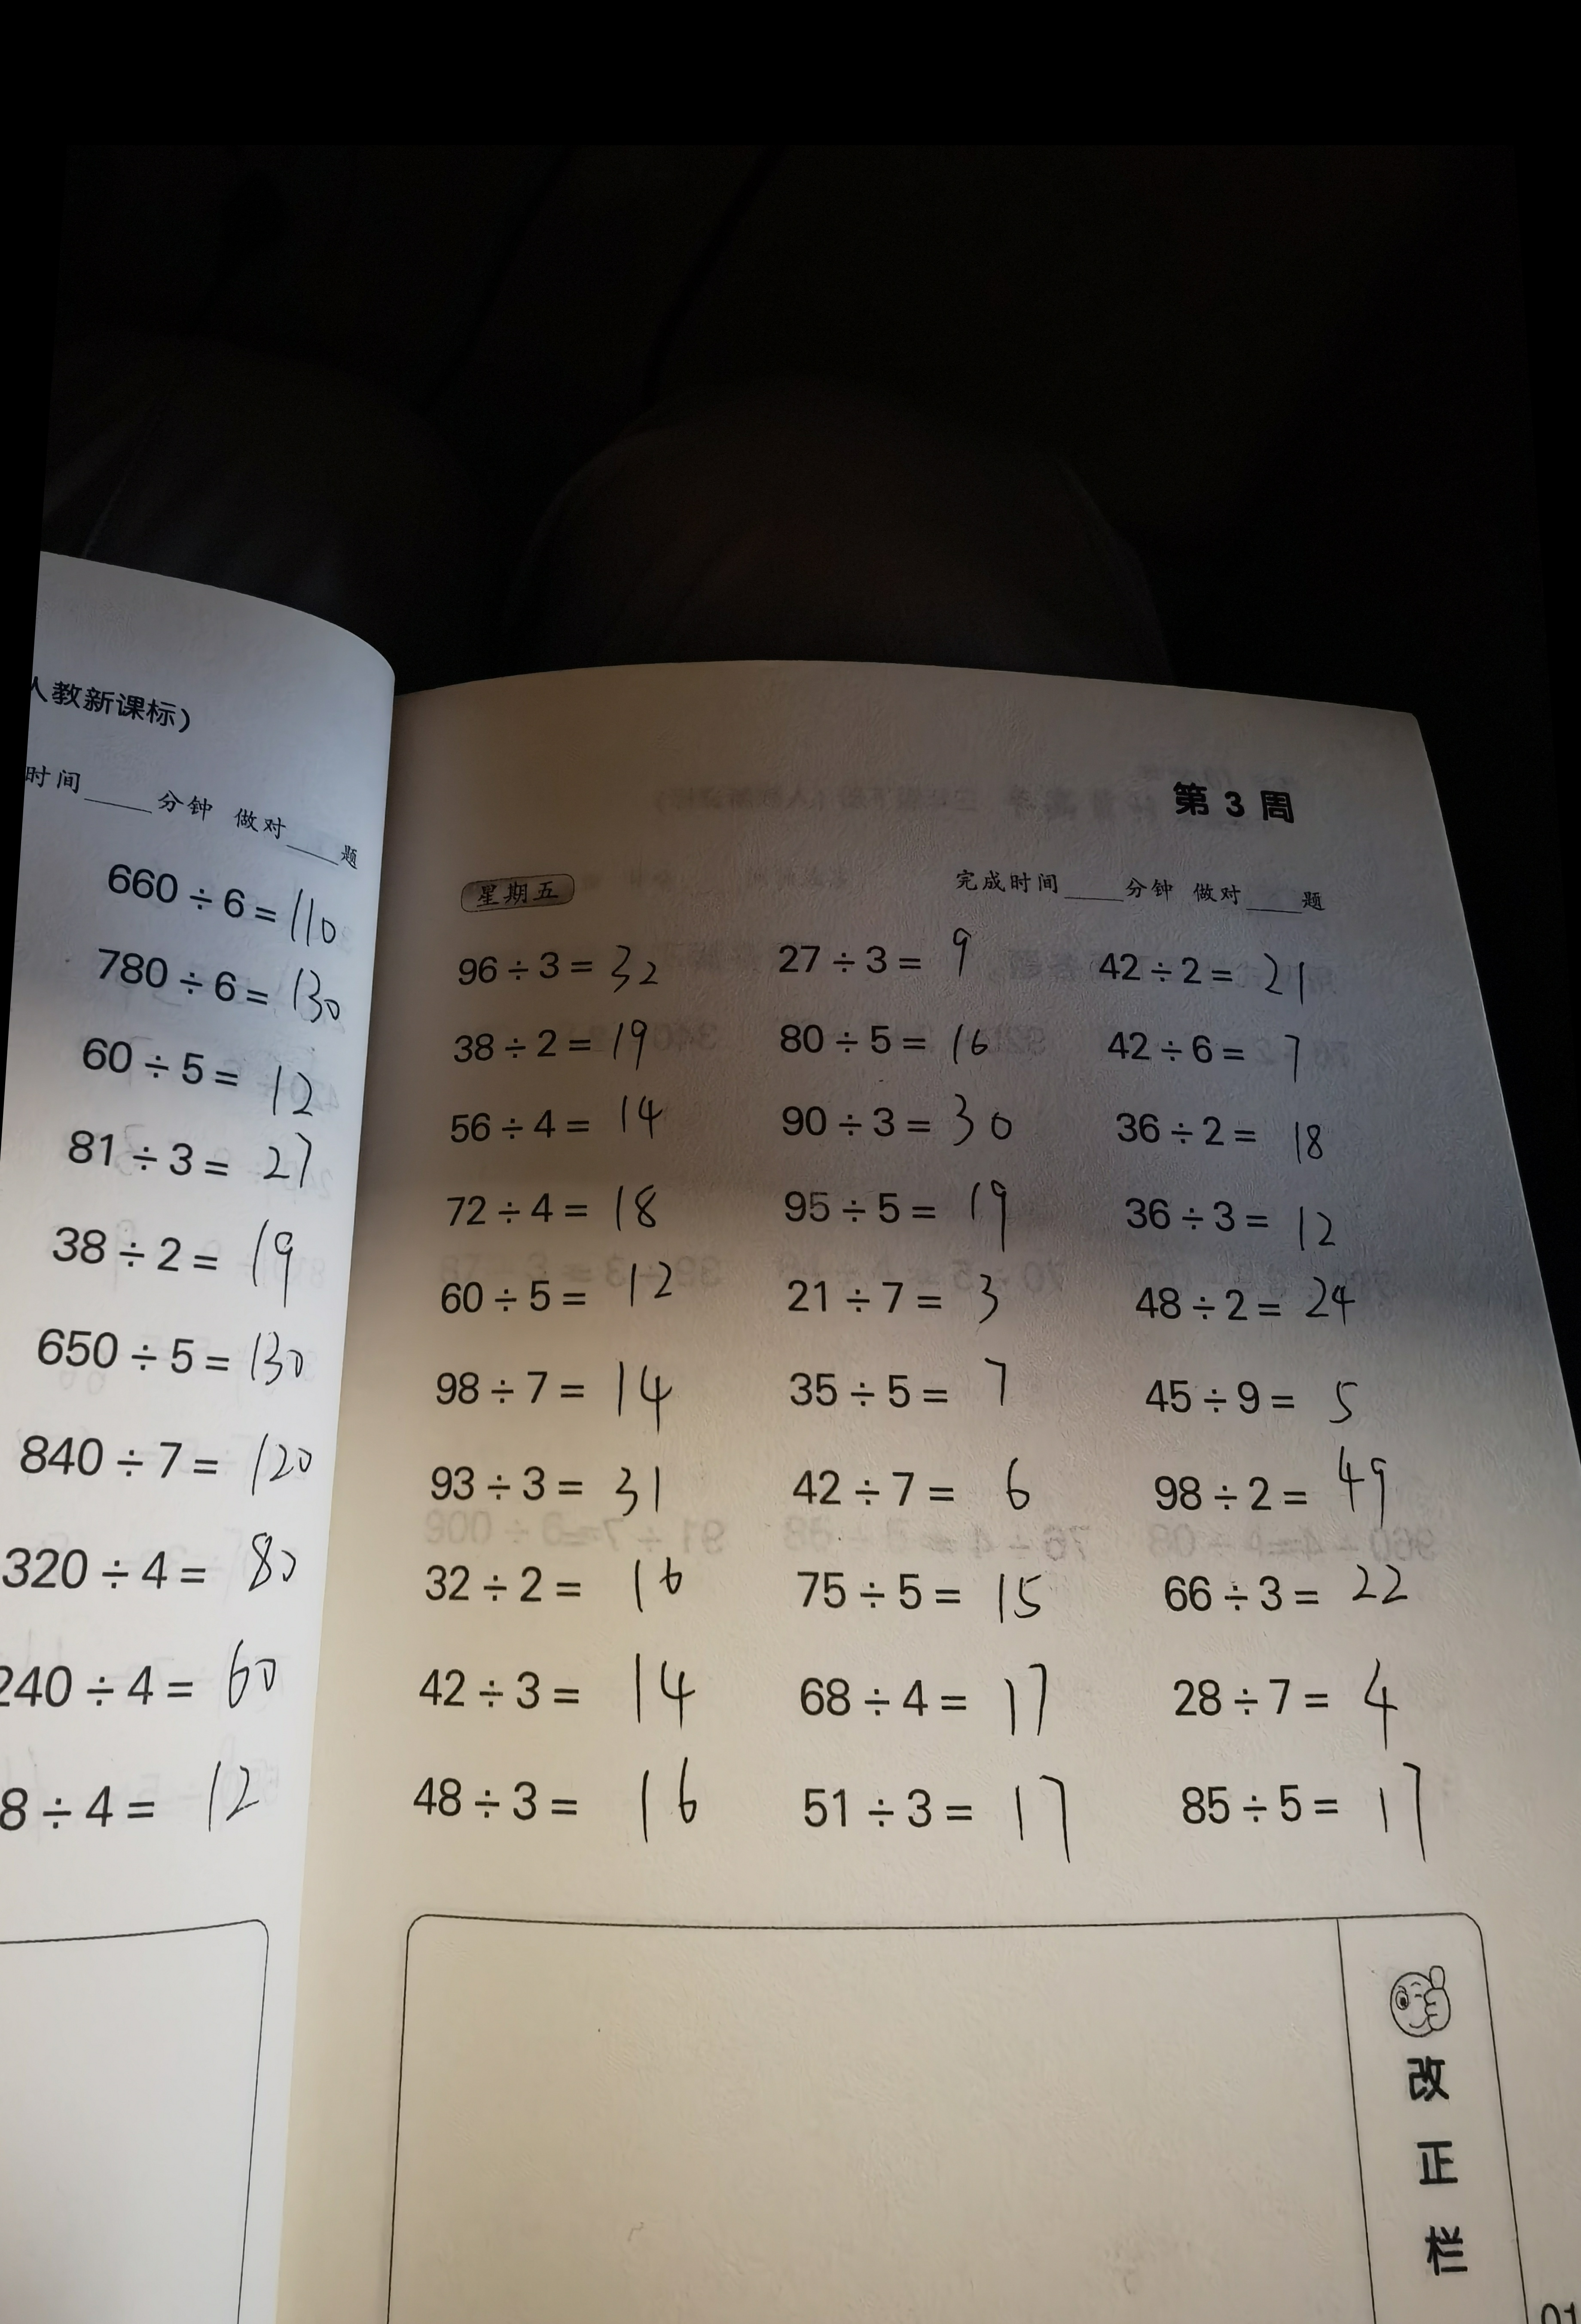equation: (1135, 1759, 1452, 1872), (392, 1652, 741, 1750), (783, 1655, 1101, 1750), (782, 1766, 1092, 1860), (393, 1758, 743, 1840), (1140, 1445, 1424, 1546), (768, 1353, 1064, 1443), (1135, 1548, 1435, 1636), (1096, 1341, 1378, 1433), (785, 1541, 1057, 1634), (1163, 1655, 1408, 1758), (401, 1443, 686, 1525), (750, 1265, 1039, 1345), (420, 1544, 709, 1616), (761, 1076, 1036, 1152), (790, 1449, 1046, 1526), (780, 1182, 1038, 1255), (411, 1353, 679, 1422), (1115, 1182, 1355, 1258), (1094, 937, 1332, 1013), (422, 1181, 706, 1241), (766, 918, 990, 992), (1099, 1096, 1362, 1158), (439, 930, 679, 995), (761, 1009, 1002, 1071), (438, 1263, 708, 1315), (1098, 1023, 1341, 1080), (448, 1013, 669, 1073), (448, 1096, 671, 1151), (1128, 1281, 1383, 1325)
